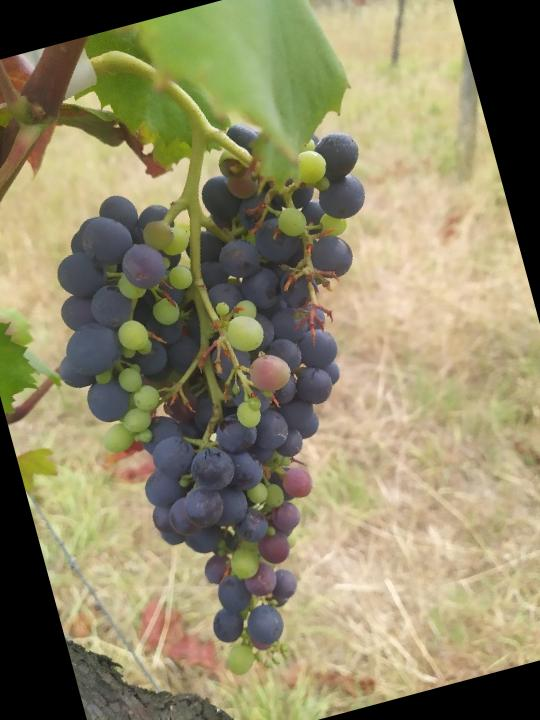grape: (4, 90, 486, 704)
